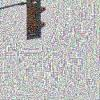traffic lights: (26, 0, 47, 42)
